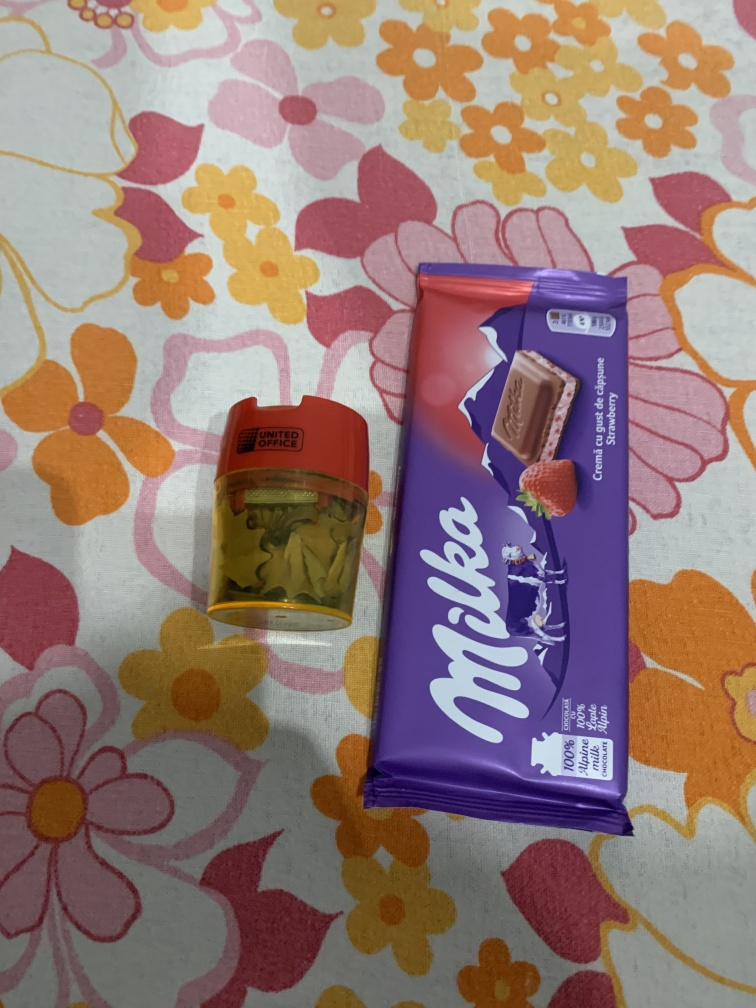milka: (365, 249, 636, 844)
